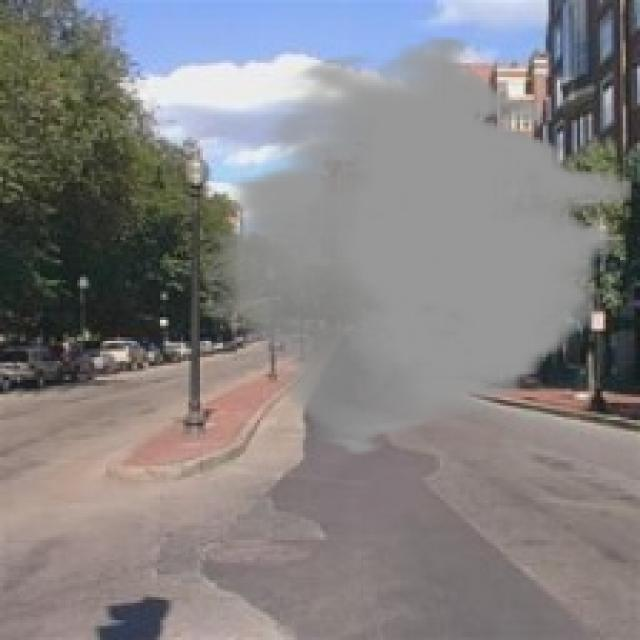smoke: (206, 34, 631, 457)
